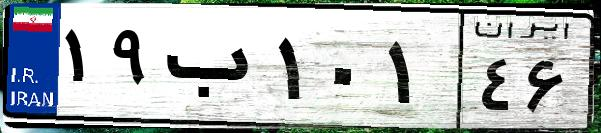0: (330, 28, 385, 110)
1: (270, 28, 330, 110), (385, 28, 445, 110), (57, 26, 110, 100)
4: (475, 38, 525, 113)
6: (525, 38, 570, 115)
9: (110, 28, 158, 98)
ب: (158, 20, 270, 120)
